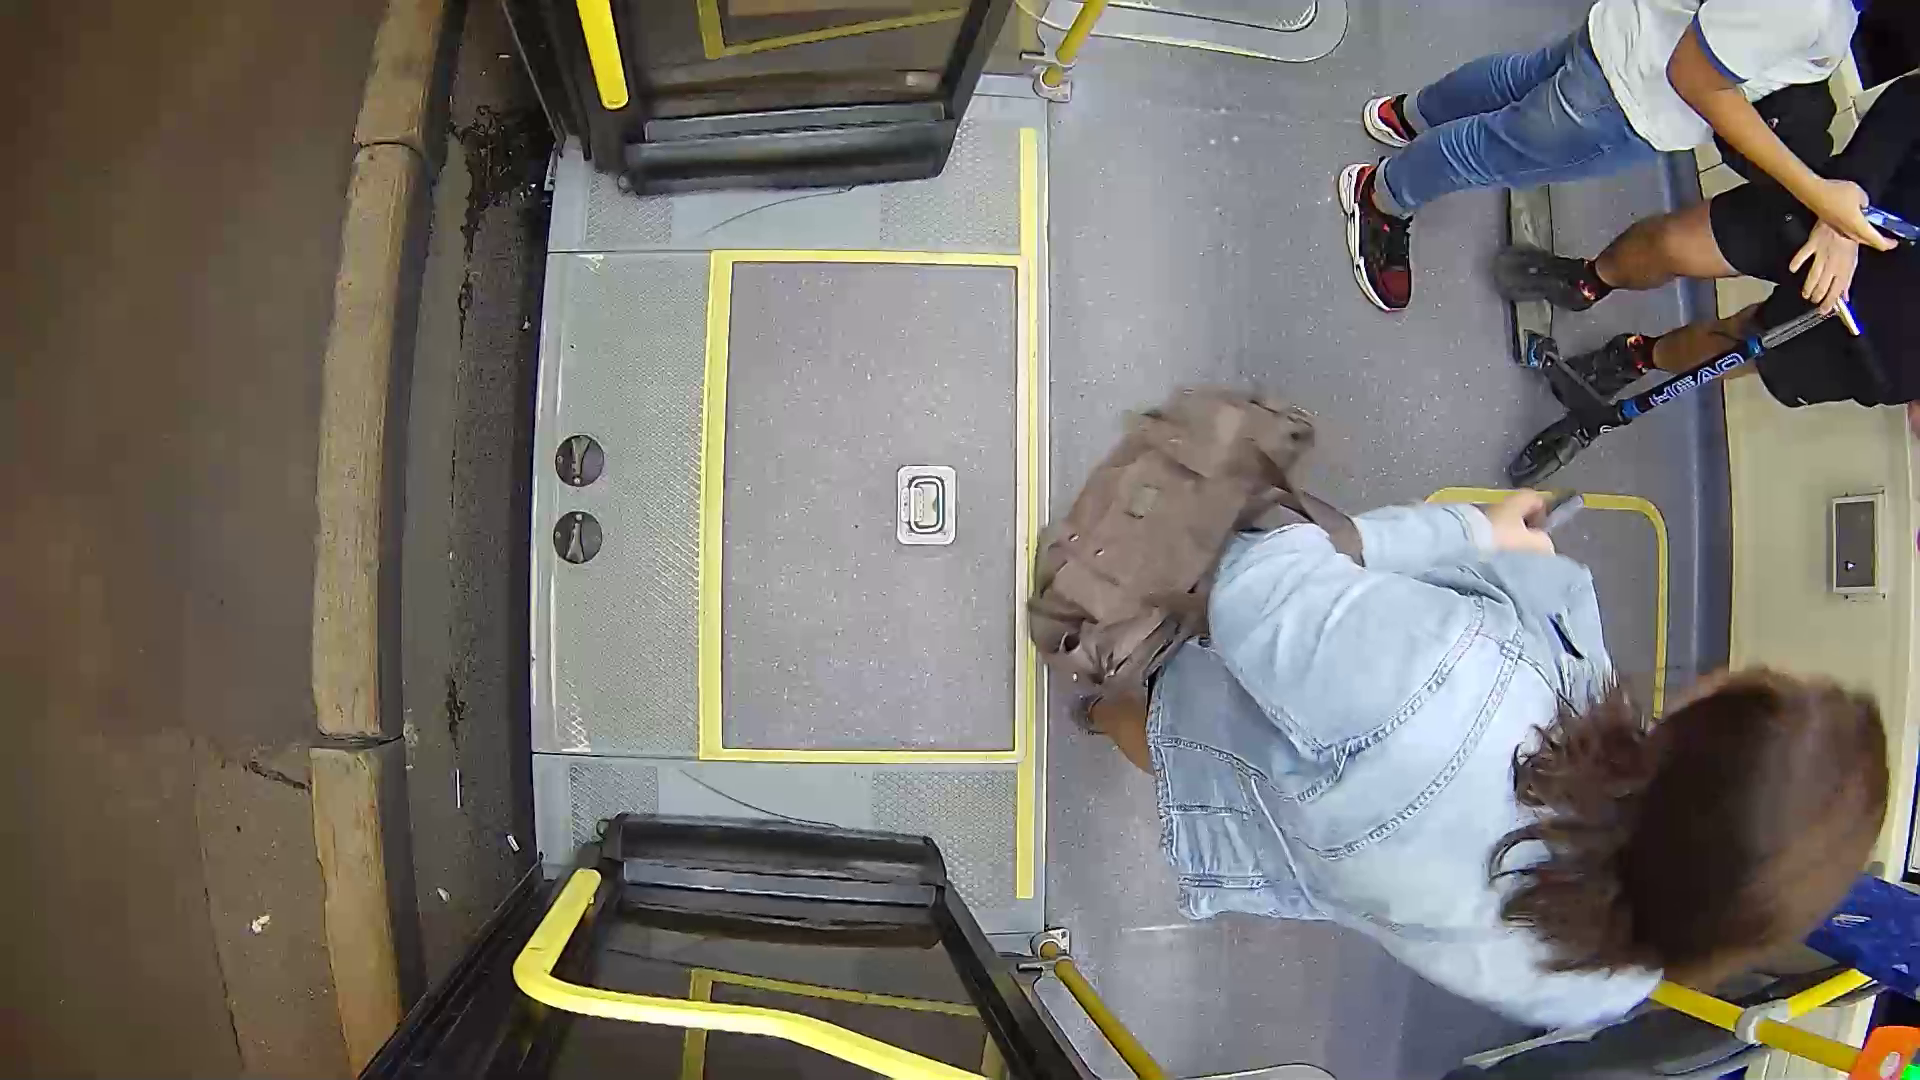person: (939, 391, 1891, 1027)
